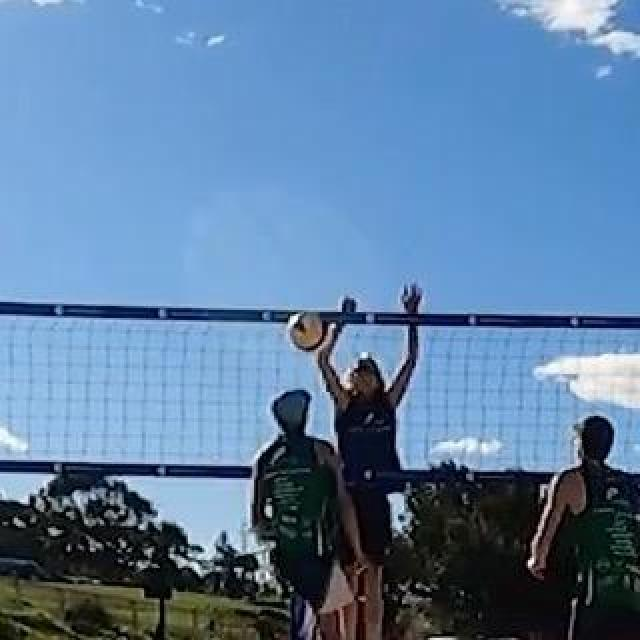volleyball: (289, 314, 329, 352)
